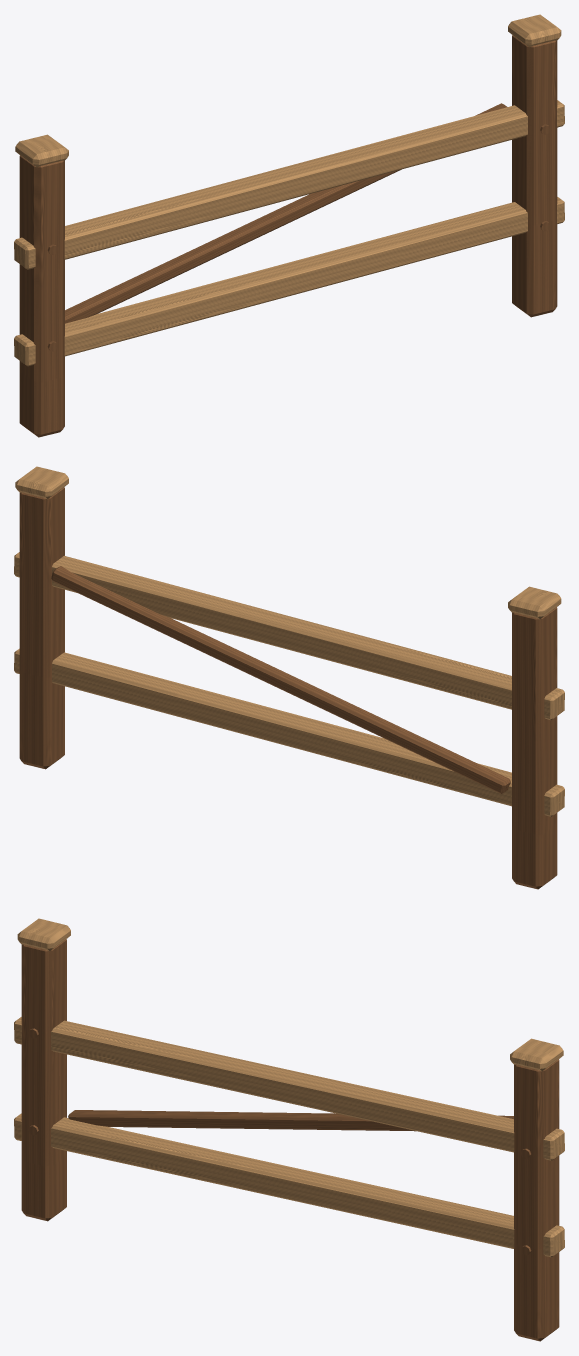
The model's file is Fence.fbx.
The picture shows the model from 3 angles, top to bottom: view 1: azimuth 30°, elevation 25°; view 2: azimuth 150°, elevation 25°; view 3: azimuth 330°, elevation 25°; orthographic projection.
Visible parts, largest first — view 1: Fence_LOD0; view 2: Fence_LOD0; view 3: Fence_LOD0.
Boxes of the visible parts, left/top/right/bottom form: Fence_LOD0: left=14, top=14, right=564, bottom=437; Fence_LOD0: left=14, top=466, right=564, bottom=889; Fence_LOD0: left=14, top=918, right=564, bottom=1341.
Size of what is drawn, in the model's own units: 298 by 151 by 21.65.
Materials: 2 (2 with a texture image).
